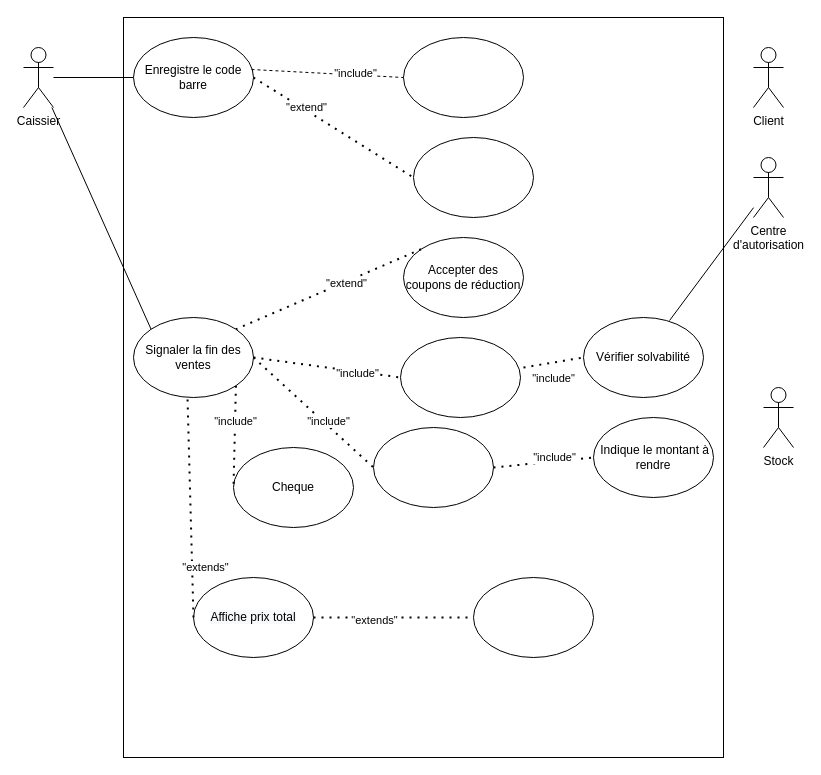
Some shapes in this 821 by 775 pixel diagram are drawn without their labels. Each missing label, with the centre of its shape:
Affiche le prix de chaque article: (x=473, y=177)
Carte bancaire: (x=460, y=377)
Enregistre la quantité: (x=463, y=77)
Liquide: (x=433, y=467)
Transmettre le code des articles + qte: (x=533, y=617)
